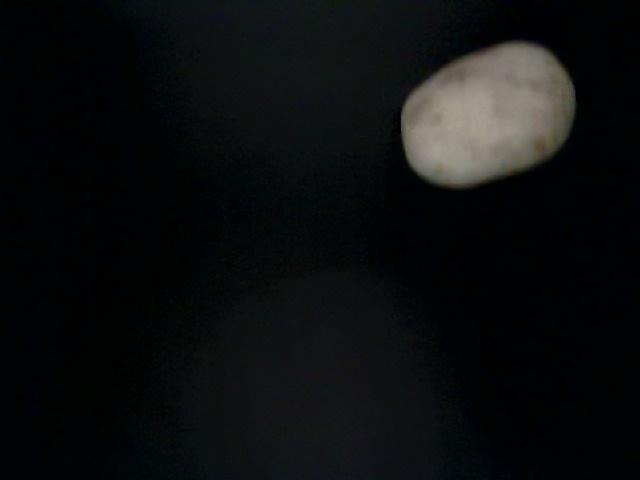KHSLJ: (171, 21, 490, 350)
